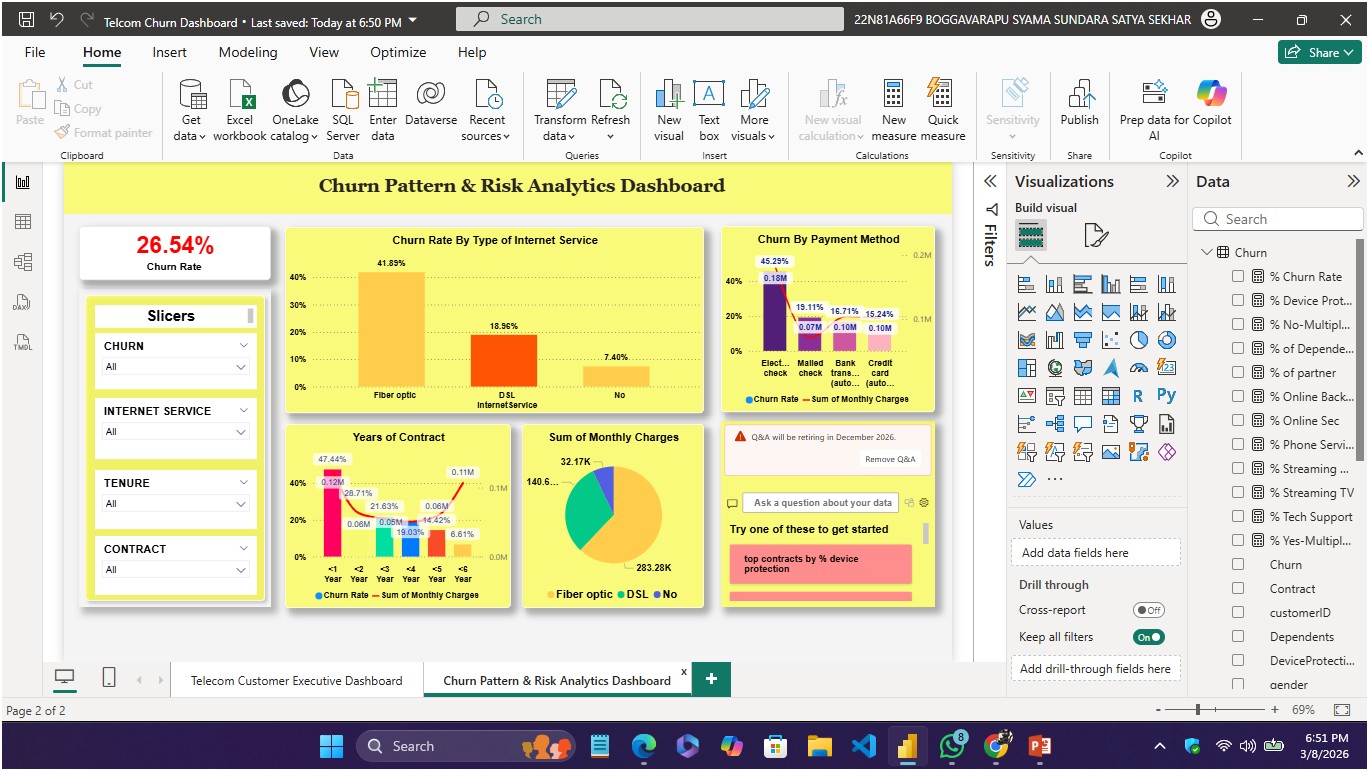

This screenshot's page, from the dashboard's own definition file:
{"tool":"powerbi","page":{"name":"Churn Pattern & Risk Analytics Dashboard","canvas":[1280,720],"ordinal":1},"visuals":[{"type":"shape","box":[0,0,1280.2,74.9],"z":0},{"type":"textbox","box":[331.2,14.4,656.6,46.1],"z":1000},{"type":"shape","box":[21.6,182.9,276.5,457.9],"z":2000},{"type":"card","fields":{"Values":["Churn.% Churn Rate"]},"box":[21.6,92.2,276.5,77.8],"z":3000},{"type":"slicer","fields":{"Values":["Churn.Churn"]},"box":[44.2,246.2,233.3,80.6],"z":3000,"group":"g1"},{"type":"columnChart","title":"Churn Rate By Type of Internet Service","fields":{"Y":["Churn.% Churn Rate"],"Category":["Churn.InternetService"]},"box":[318.2,93.6,603.4,267.8],"z":4000},{"type":"slicer","fields":{"Values":["Churn.InternetService"]},"box":[44.2,339.8,233.3,87.8],"z":4000,"group":"g1"},{"type":"pieChart","title":"Sum of Monthly Charges","fields":{"Category":["Churn.InternetService"],"Y":["Sum(Churn.MonthlyCharges)"]},"box":[659.5,377.3,262.1,265],"z":5000},{"type":"slicer","fields":{"Values":["Churn.tenure"]},"box":[44.2,443.5,233.3,85],"z":5000,"group":"g1"},{"type":"lineStackedColumnComboChart","title":"Years of Contract","fields":{"Y":["Churn.% Churn Rate"],"Y2":["Sum(Churn.MonthlyCharges)"],"Category":["Churn.Tenure(in years)"]},"box":[318.2,377.3,325.4,265],"z":6000},{"type":"slicer","fields":{"Values":["Churn.Contract"]},"box":[44.2,538.5,233.3,85],"z":6000,"group":"g1"},{"type":"lineStackedColumnComboChart","title":"Churn By Payment Method","fields":{"Y":["Churn.% Churn Rate"],"Y2":["Sum(Churn.MonthlyCharges)"],"Category":["Churn.PaymentMethod"]},"box":[946.1,92.2,308.2,267.8],"z":7000},{"type":"qnaVisual","box":[946.1,373,308.2,267.8],"z":8000},{"type":"group","id":"g1","title":"Group 1","box":[44.2,205.9,233.3,417.6],"z":9000},{"type":"textbox","box":[44.2,205.9,233.3,33.1],"z":17002,"group":"g1"}]}

Visuals, with their boxes on the page's 1280x720 design canvas (x1, y1, x2, y2). These are canvas units, not pixel positions in the 1369x771 screenshot, which may show the page scaled, cropped or inside an application window:
shape: x1=0, y1=0, x2=1280, y2=75
textbox: x1=331, y1=14, x2=988, y2=60
shape: x1=22, y1=183, x2=298, y2=641
card - Churn.% Churn Rate: x1=22, y1=92, x2=298, y2=170
slicer - Churn.Churn: x1=44, y1=246, x2=278, y2=327
"Churn Rate By Type of Internet Service" columnChart: x1=318, y1=94, x2=922, y2=361
slicer - Churn.InternetService: x1=44, y1=340, x2=278, y2=428
"Sum of Monthly Charges" pieChart: x1=660, y1=377, x2=922, y2=642
slicer - Churn.tenure: x1=44, y1=444, x2=278, y2=528
"Years of Contract" lineStackedColumnComboChart: x1=318, y1=377, x2=644, y2=642
slicer - Churn.Contract: x1=44, y1=538, x2=278, y2=624
"Churn By Payment Method" lineStackedColumnComboChart: x1=946, y1=92, x2=1254, y2=360
qnaVisual: x1=946, y1=373, x2=1254, y2=641
"Group 1" group: x1=44, y1=206, x2=278, y2=624
textbox: x1=44, y1=206, x2=278, y2=239
